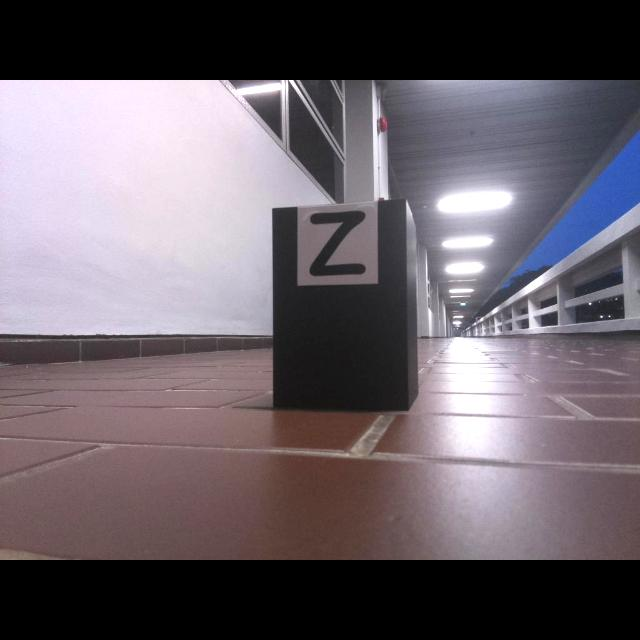Z: (310, 211, 366, 276)
